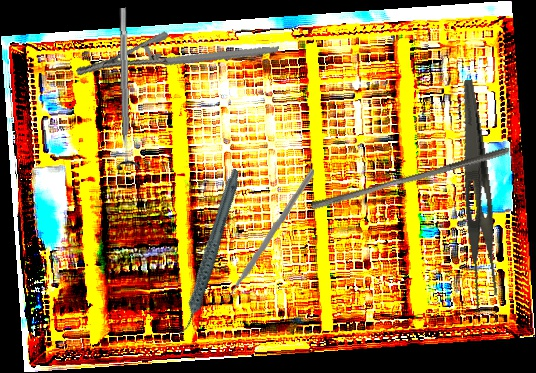Chopper: (212, 165, 315, 308)
Dressing Forceps: (436, 78, 511, 310)
Fixation Ring: (110, 7, 142, 170)
Handpiece: (144, 167, 272, 337)
Needle Holder: (75, 3, 279, 120)
Pusher: (309, 138, 512, 218)
